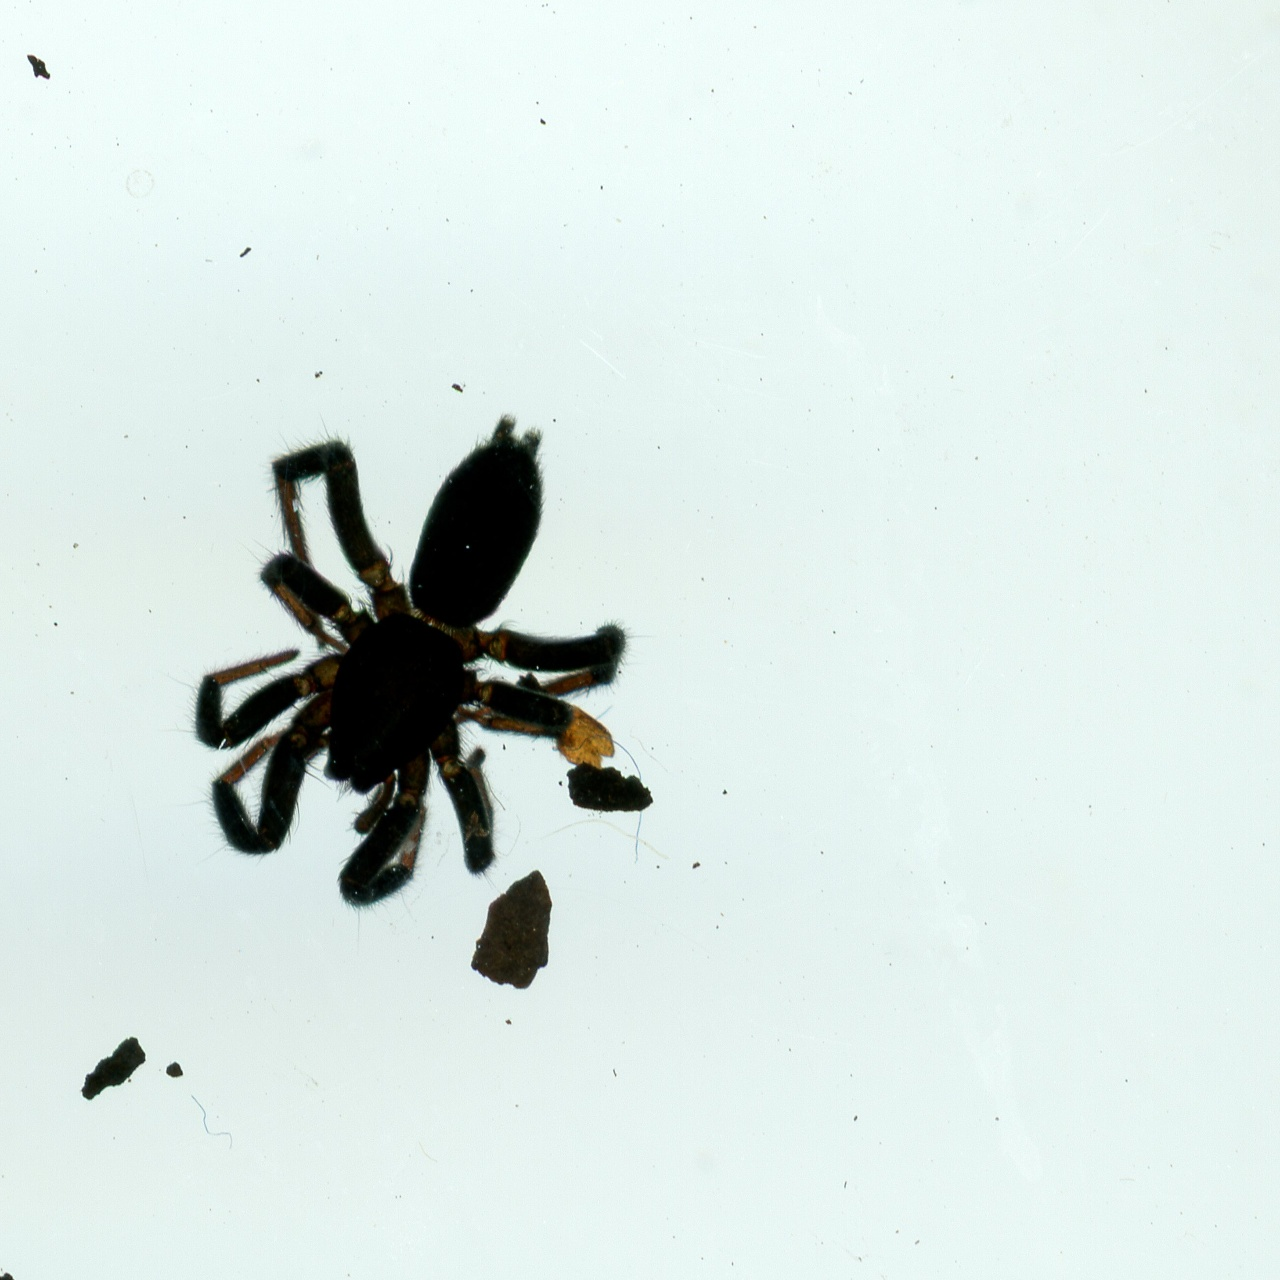arthropod: (148, 396, 663, 964)
